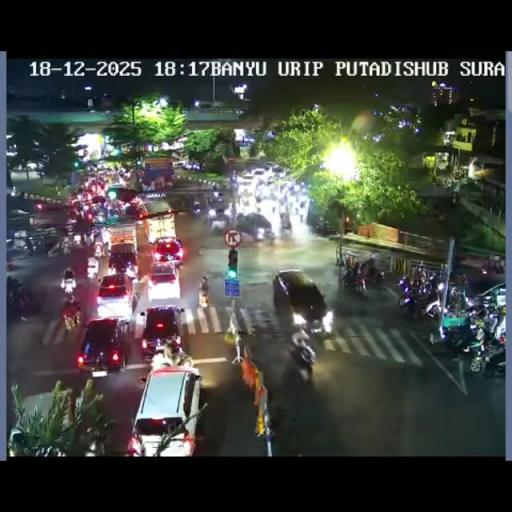Car: (128, 365, 202, 454), (6, 391, 66, 458), (272, 268, 330, 334), (76, 316, 130, 374), (139, 305, 186, 360), (95, 273, 135, 318), (146, 262, 182, 302), (107, 242, 139, 276), (151, 236, 184, 266), (104, 186, 140, 206), (208, 209, 231, 233), (86, 256, 99, 278), (238, 174, 254, 190), (250, 168, 268, 182), (270, 165, 286, 177), (90, 194, 106, 205), (172, 160, 188, 169)
Motorcycle: (398, 278, 441, 320), (266, 402, 300, 454), (464, 330, 504, 374), (440, 314, 477, 350), (289, 339, 315, 381), (6, 285, 32, 321), (83, 427, 108, 457), (70, 209, 96, 235), (464, 299, 490, 322), (448, 278, 467, 308), (361, 262, 384, 286), (170, 346, 193, 368), (62, 307, 81, 332), (341, 266, 357, 289), (198, 276, 210, 306), (136, 366, 150, 390), (61, 275, 76, 297), (311, 216, 328, 234), (279, 211, 291, 231), (262, 226, 276, 242), (210, 189, 224, 204), (494, 258, 506, 274), (93, 242, 103, 260), (85, 230, 96, 246), (102, 238, 110, 258), (95, 212, 106, 226), (72, 233, 82, 248), (452, 188, 461, 204), (26, 242, 36, 256), (240, 194, 250, 208), (62, 241, 71, 256), (44, 242, 53, 257), (192, 200, 201, 214), (298, 198, 306, 210), (255, 200, 262, 213), (294, 205, 299, 216), (271, 204, 276, 214), (299, 212, 304, 222)
